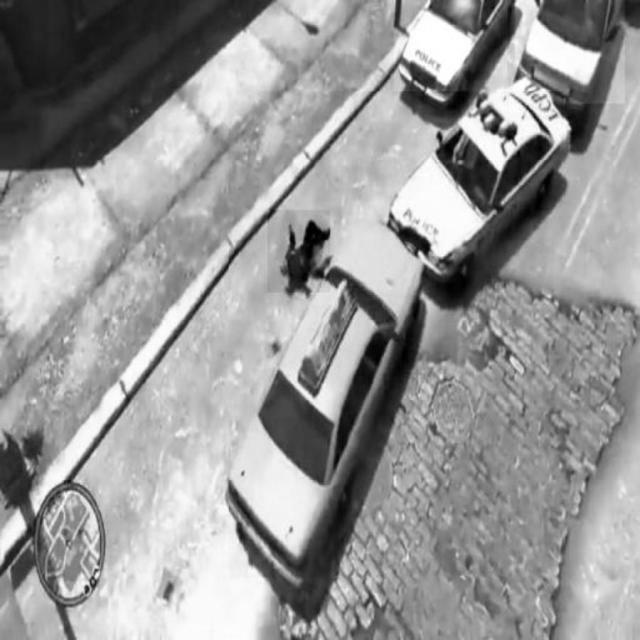accident: (230, 91, 565, 577)
person: (268, 210, 330, 293)
vehicle: (516, 1, 626, 104), (395, 0, 508, 98)
